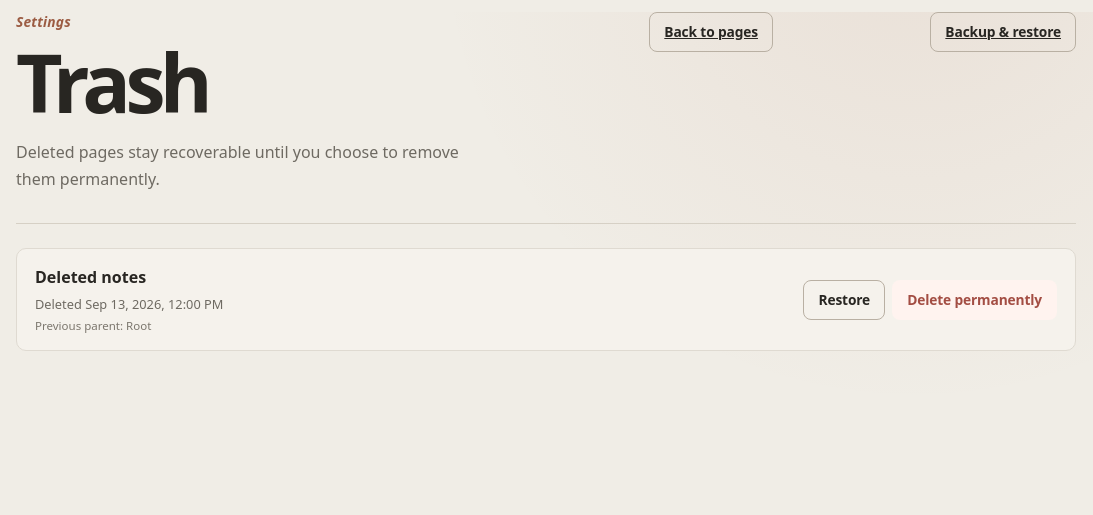
it: TrashPage › requires the exact title before permanent deletion
The image size is (1093, 515).
Expected: the heading "Deleted notes" is shown, [35,266,146,288]
Click the button "Delete permanently" at (975, 300), box [892,280,1057,320]
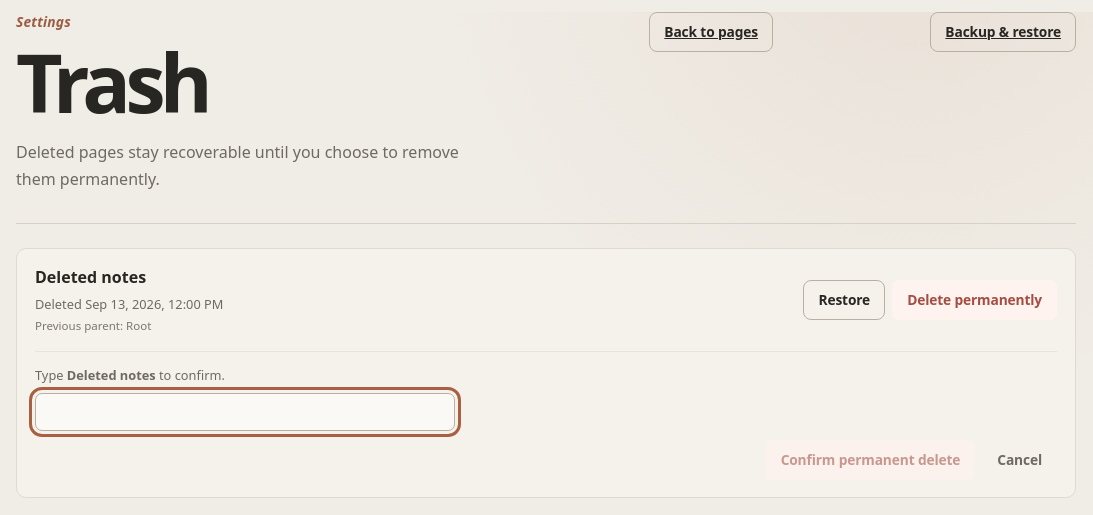
Type "Deleted notes" into the field labelled "Type Deleted notes to confirm." at (245, 412), box [35,393,455,431]
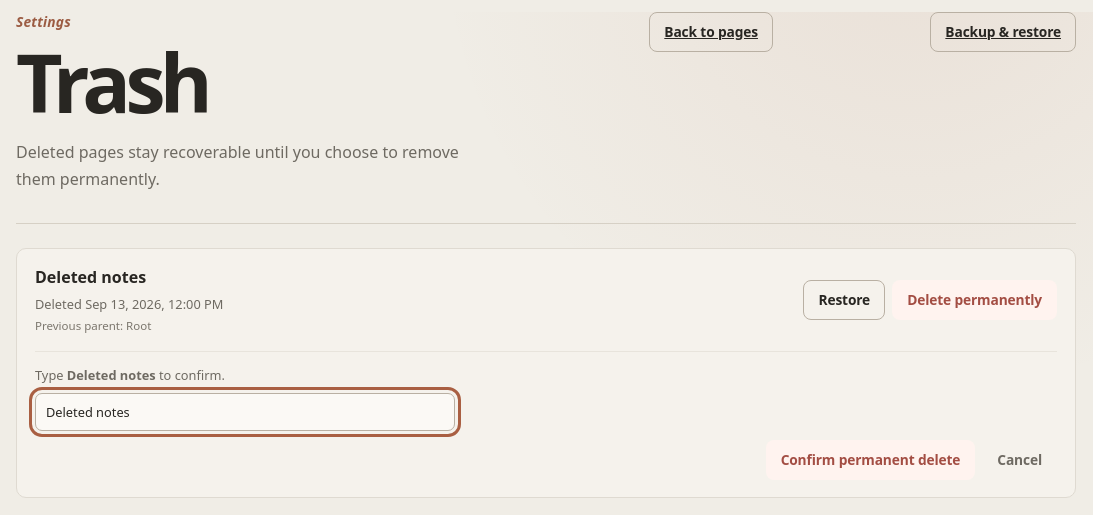
Click the submit button at (870, 460), box [766,440,975,480]
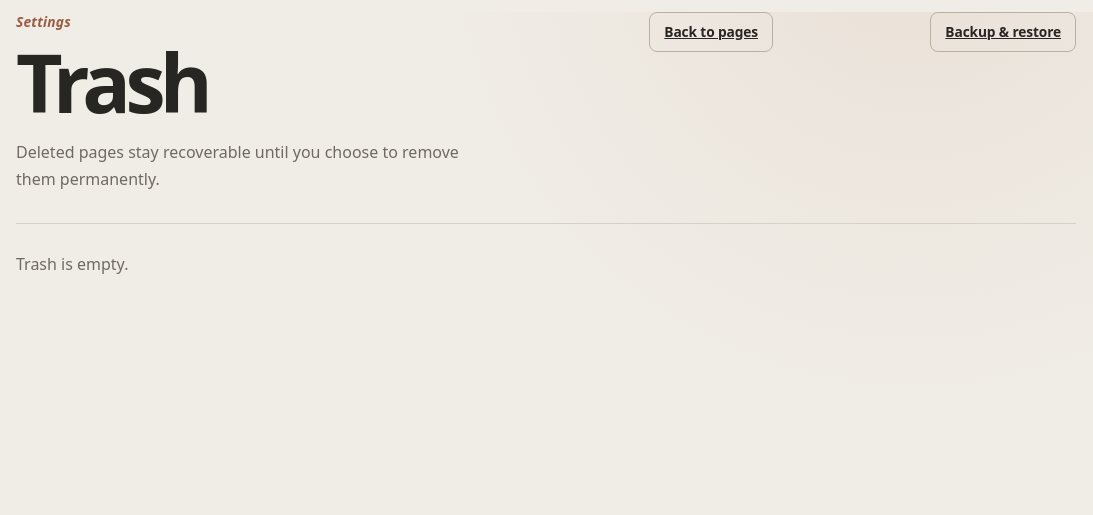
Expected: the text "Trash is empty." is shown, [16,253,128,275]
